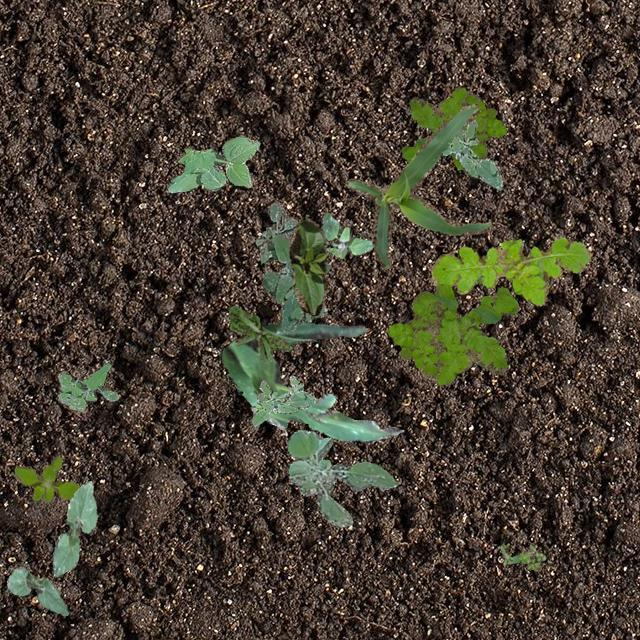crop: (344, 102, 492, 268), (220, 320, 402, 440), (52, 480, 96, 576), (288, 216, 328, 314), (5, 566, 68, 614)
weed: (388, 282, 518, 384), (430, 237, 590, 306), (288, 428, 397, 526), (254, 200, 330, 332), (400, 86, 506, 168), (166, 136, 258, 192), (438, 119, 502, 190), (228, 306, 290, 362), (250, 374, 314, 426), (12, 456, 78, 502), (56, 362, 118, 409), (320, 212, 372, 258), (500, 544, 544, 570)
